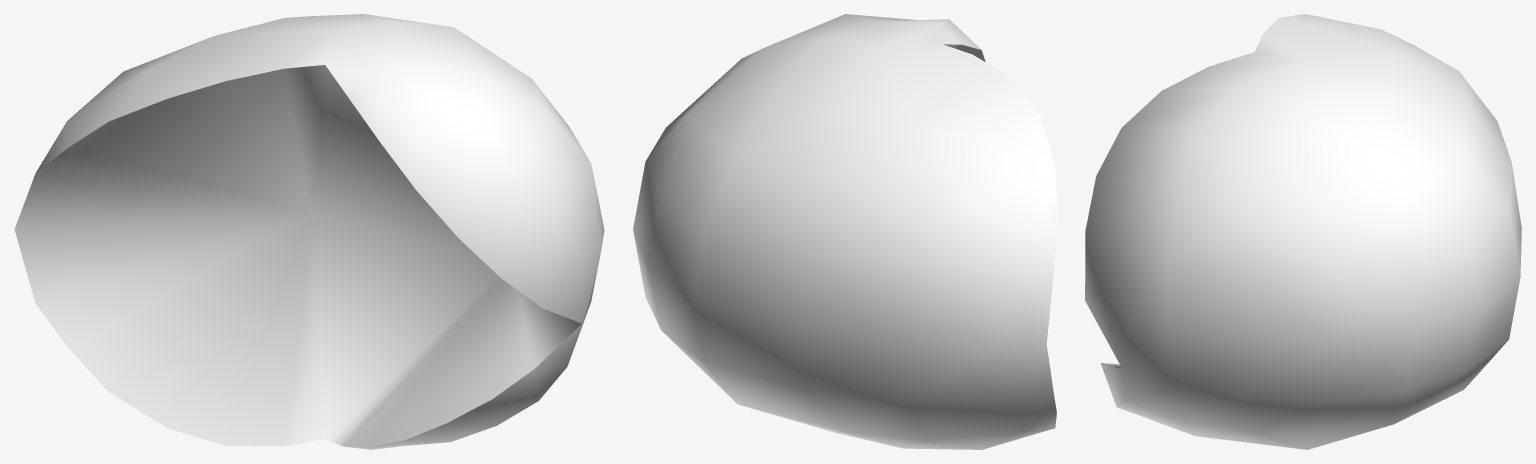
The model's file is Hair1.fbx.
3 views of the same model, side by side, from view 1: azimuth 30°, elevation 25°; view 2: azimuth 150°, elevation 25°; view 3: azimuth 270°, elevation 25° (orthographic). The views are drawn at different scales.
Parts seen in each view (by area): view 1: Mesh_0005.rip.042_Mesh_0005.rip_mesh0000.001; view 2: Mesh_0005.rip.042_Mesh_0005.rip_mesh0000.001; view 3: Mesh_0005.rip.042_Mesh_0005.rip_mesh0000.001.
Boxes of the visible parts, x1,y1,x2,y2 form: Mesh_0005.rip.042_Mesh_0005.rip_mesh0000.001: (14, 14, 604, 449); Mesh_0005.rip.042_Mesh_0005.rip_mesh0000.001: (633, 14, 1056, 449); Mesh_0005.rip.042_Mesh_0005.rip_mesh0000.001: (1085, 14, 1521, 449).
Size of the model in its own units: 7.52 by 6 by 6.56.
1 material, 1 textured.
